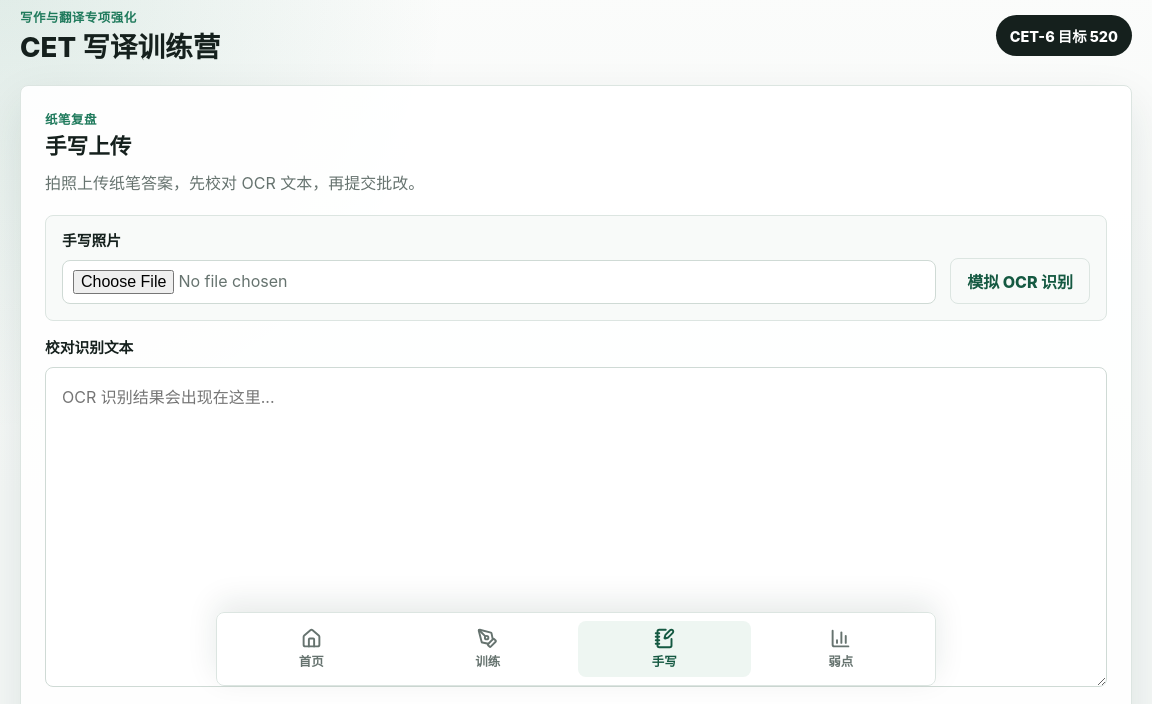
it: HandwritingPage › lets students upload, review mock OCR text, and submit only when text exists
Expected: the heading "手写上传" is shown, [45,133,131,159]
Expected: the text "拍照上传纸笔答案，先校对 OCR 文本，再提交批改。" is shown, [45,170,424,197]
Click the button "模拟 OCR 识别".
click(1020, 281)  # box [950,258,1090,304]
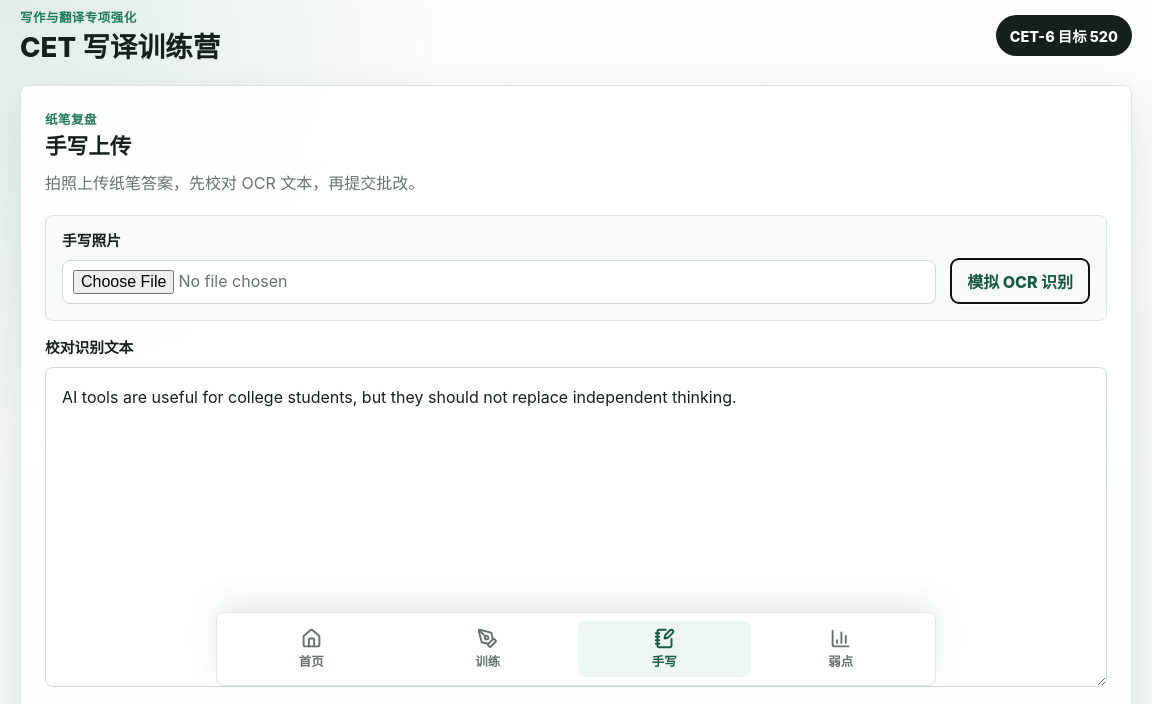
Expected: the text box labelled "校对识别文本" holds "AI tools are useful for college students, but they should not replace independent thinking."
Clear the text box labelled "校对识别文本" at coordinates (576, 527), box [45,367,1107,687]
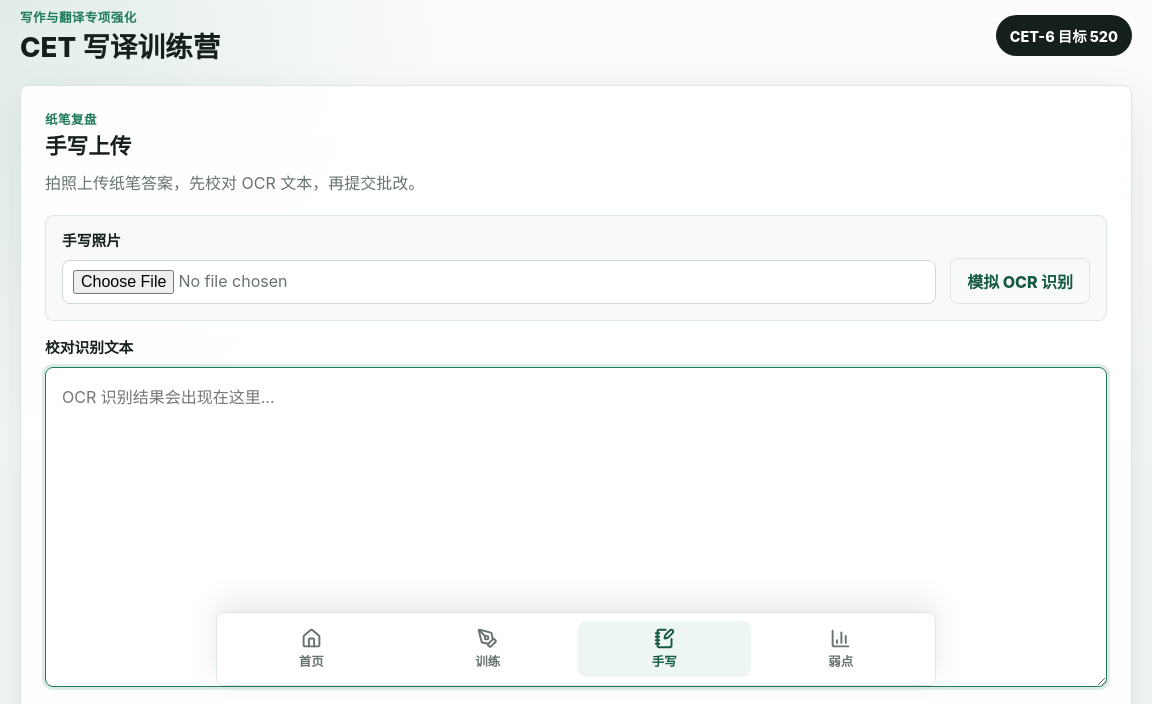
Type "Reviewed sentence." into the text box labelled "校对识别文本".
click(576, 527); type("Reviewed sentence.")  # box [45,367,1107,687]
(page scrolled)
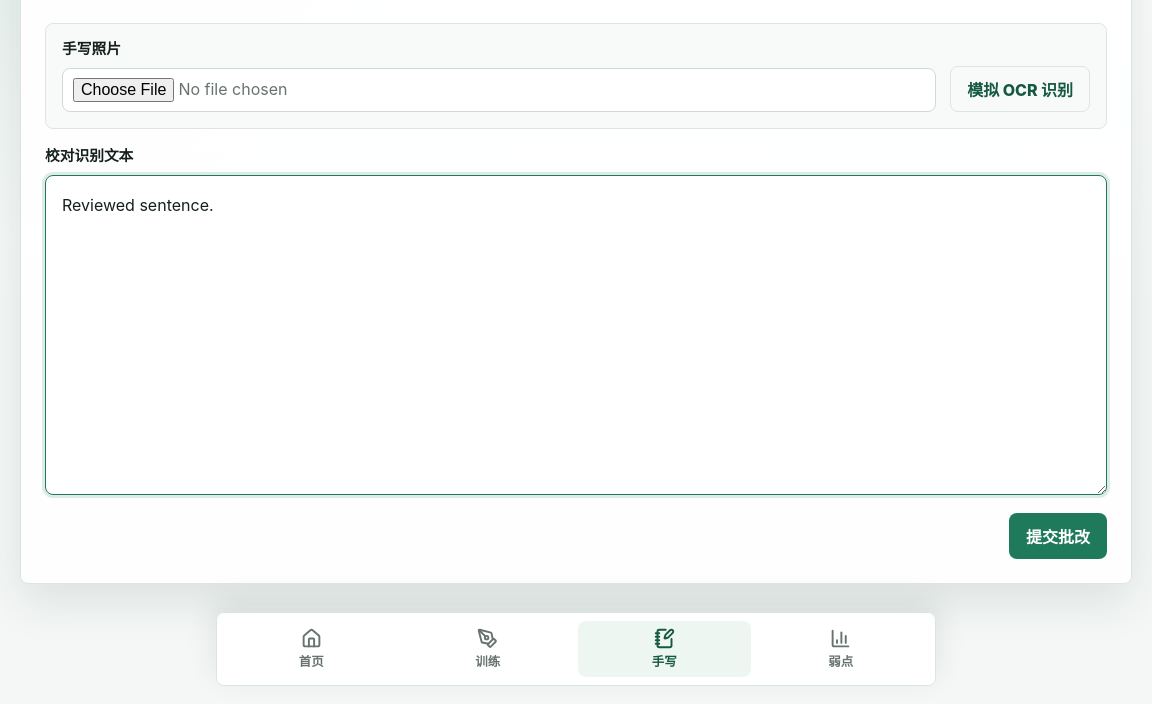
Expected: the button "提交批改" is enabled, [1009,513,1107,559]
